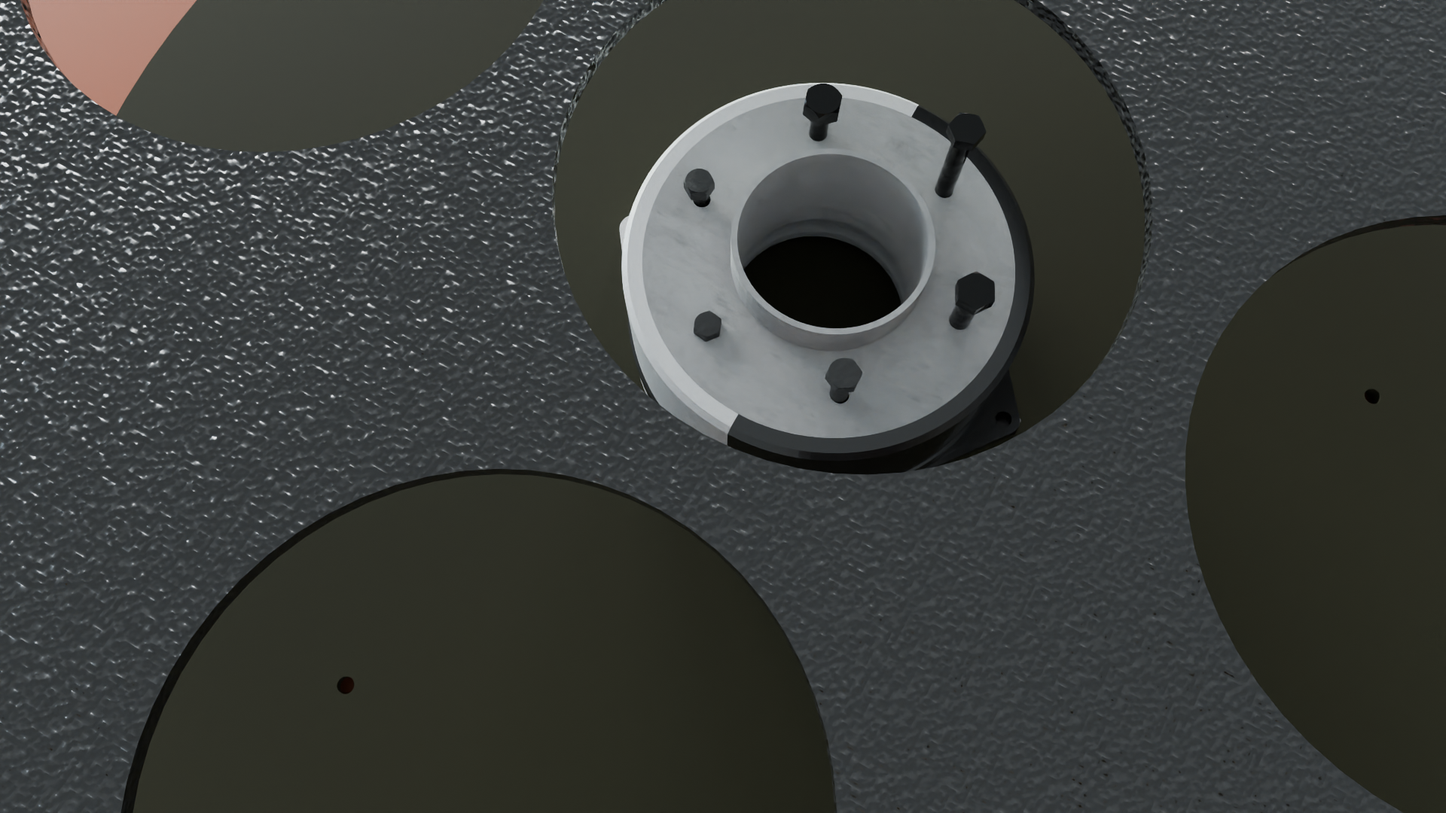bolt: (958, 272, 995, 309), (804, 84, 843, 118), (948, 112, 986, 145), (826, 358, 862, 388), (683, 169, 715, 194), (694, 311, 721, 338)
